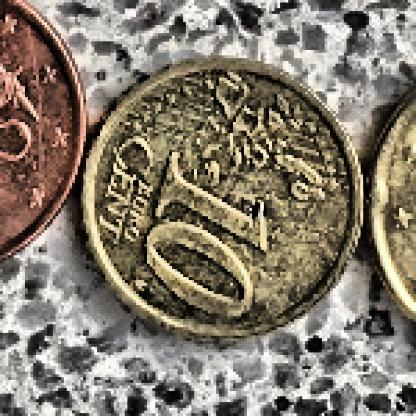coin: (84, 58, 364, 346)
